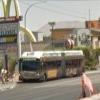buses: (19, 50, 86, 84)
